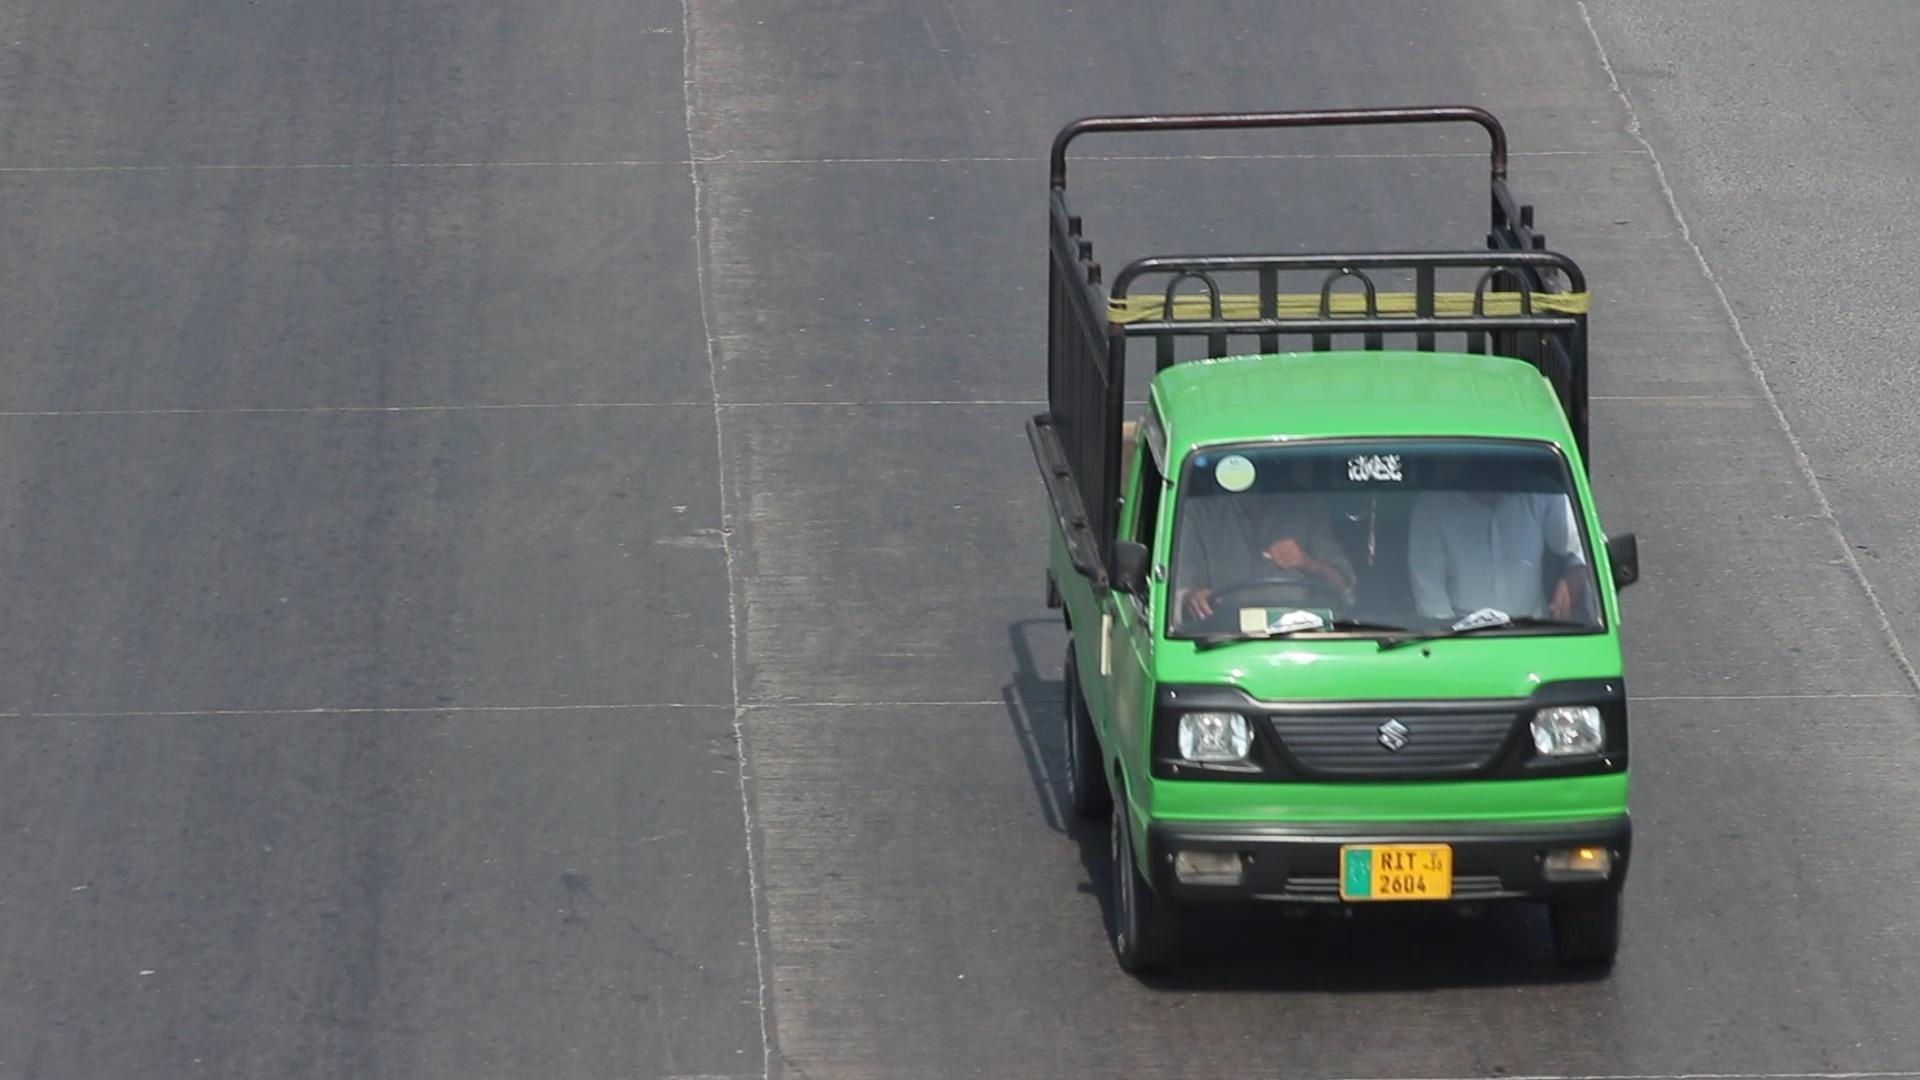windshield: (1167, 423, 1627, 667)
